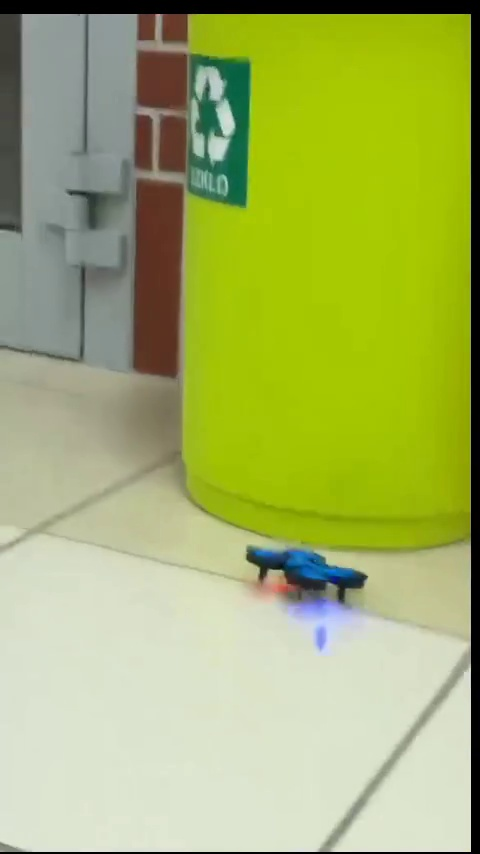drone: (245, 537, 366, 619)
